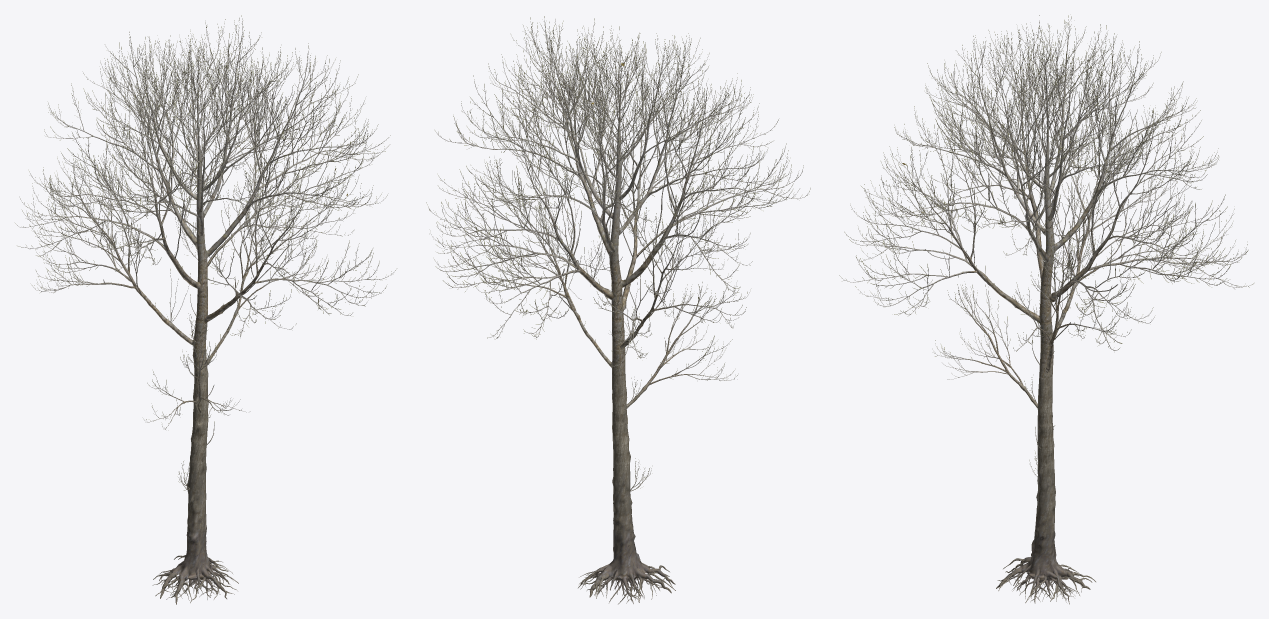
The model's file is Populus nigra HD_Forest 2 winter mat 100_LOD1.fbx.
The picture shows the model from 3 angles, left to right: view 1: azimuth 30°, elevation 25°; view 2: azimuth 150°, elevation 25°; view 3: azimuth 270°, elevation 25°; orthographic projection. The views are drawn at different scales.
Visible parts, largest first — view 1: Populus_nigra_HD; view 2: Populus_nigra_HD; view 3: Populus_nigra_HD.
Boxes of the visible parts, x1=… form: Populus_nigra_HD: x1=15, y1=15, x2=395, y2=604; Populus_nigra_HD: x1=426, y1=16, x2=810, y2=604; Populus_nigra_HD: x1=839, y1=15, x2=1253, y2=604.
Size of the model in its own units: 18.51 by 29.79 by 19.87.
6 materials, 6 textured.
